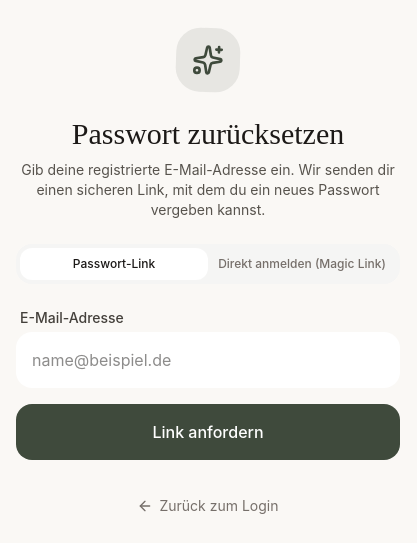
it: ForgotPasswordForm › shows inline validation error when submitting invalid email format
The image size is (417, 543).
Type "not-an-email" into the field labelled "E-Mail-Adresse" at (208, 360), box [16,332,400,388]
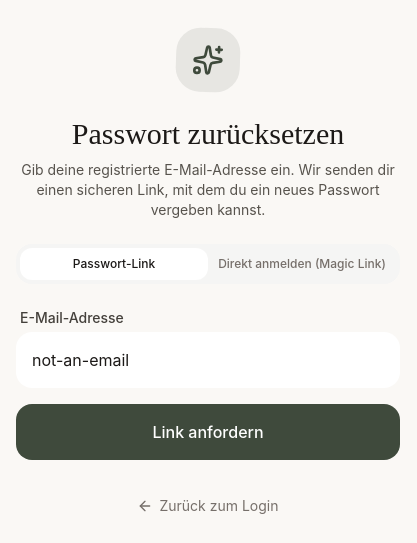
Click the button "Link anfordern" at (208, 432), box [16,404,400,460]
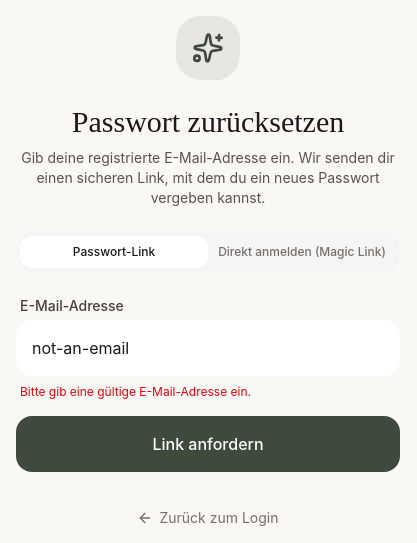
Expected: the text "Bitte gib eine gültige E-Mail-Adresse ein." is shown, [20,384,251,399]
